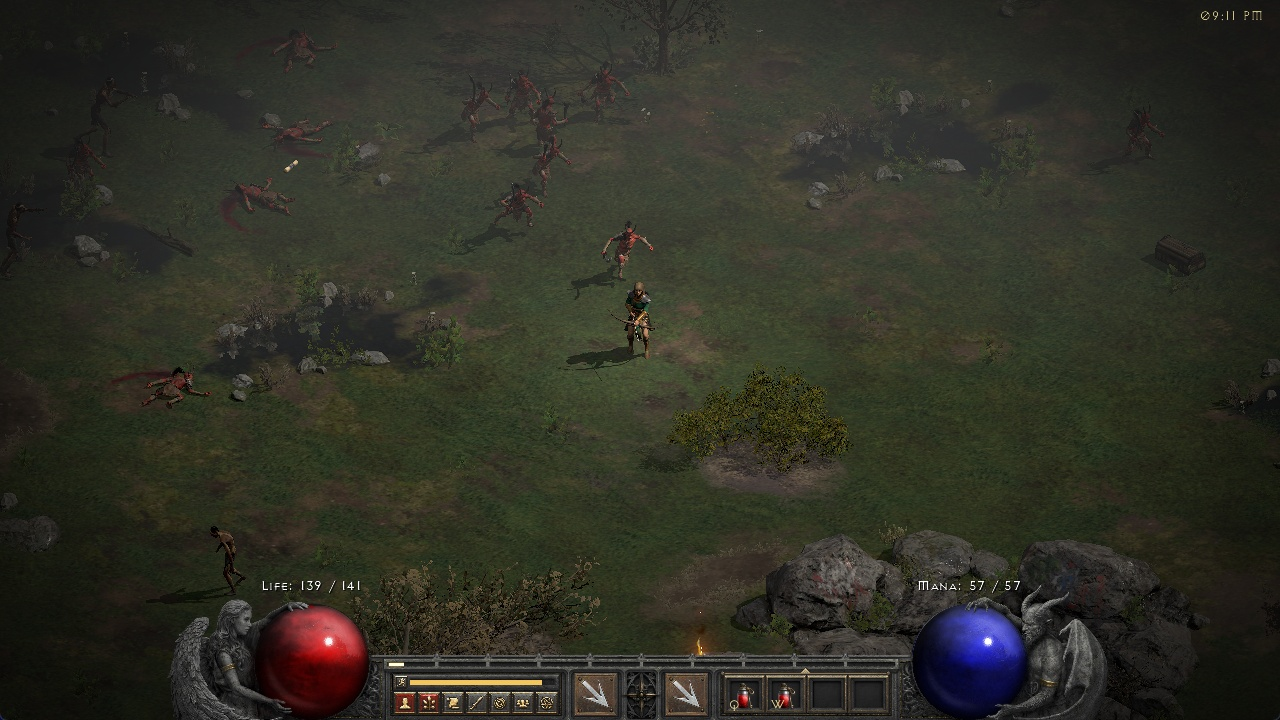fallen: (599, 222, 656, 283), (456, 79, 498, 139), (1125, 108, 1166, 162), (589, 68, 632, 118), (496, 185, 539, 229), (532, 139, 570, 186), (65, 141, 103, 184), (535, 98, 571, 141), (507, 71, 534, 114)
